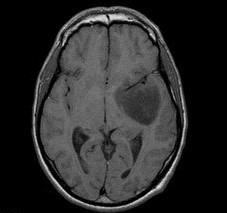Normal_Brain: (2, 2, 227, 213), (1, 2, 187, 11)
